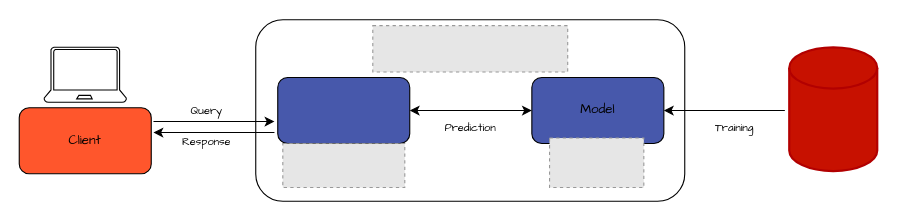
The diagram is 898 pixels wide and 220 high, and some of its shapes have lost their labels. Grey dashed boxes stand in for pictures. The shapes that lost their labels are listed below. From the top down, each one's centre as x and y in pixels, then its label:
[343,110]: API REST
[833,109]: Data
